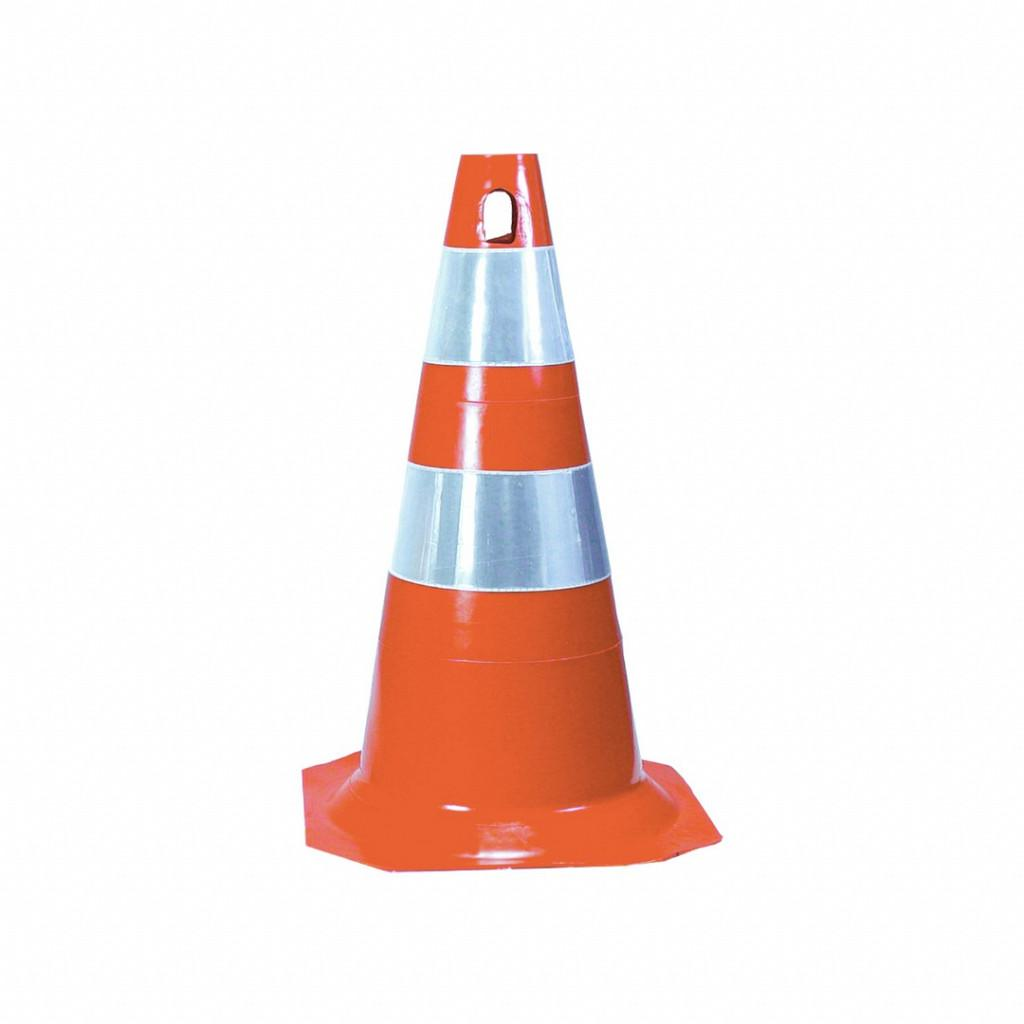traffic_cone: (300, 150, 724, 873)
